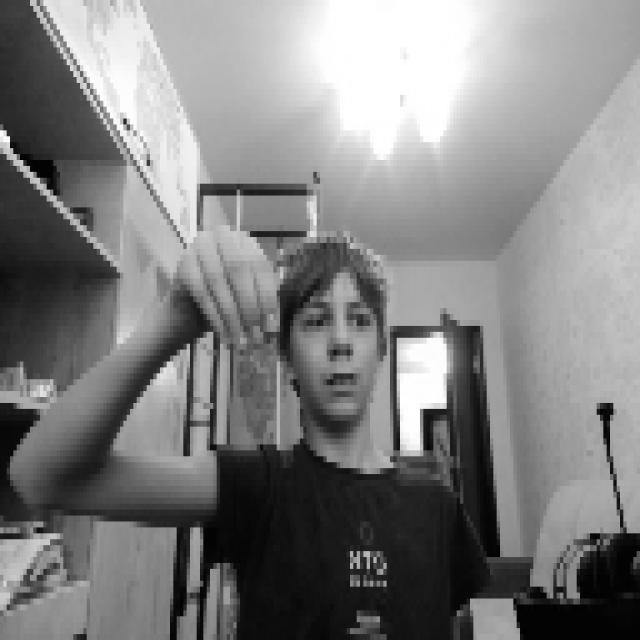left_click: (176, 213, 276, 338)
